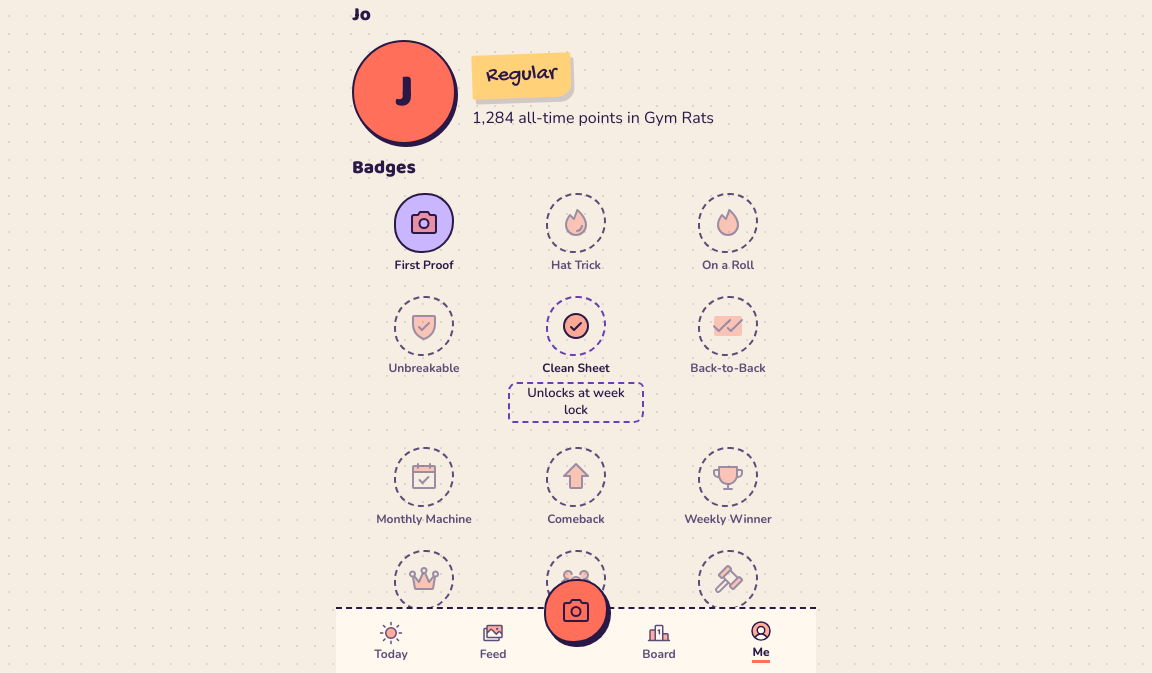
Test: Me profile (Story 4.6) › a seal opens its Sheet: earned with the line and date, pending with the lock time, locked with how to earn
Click the button with aria-label "First Proof, earned 12 Nov". click: (424, 233)
box: [352,187,496,278]
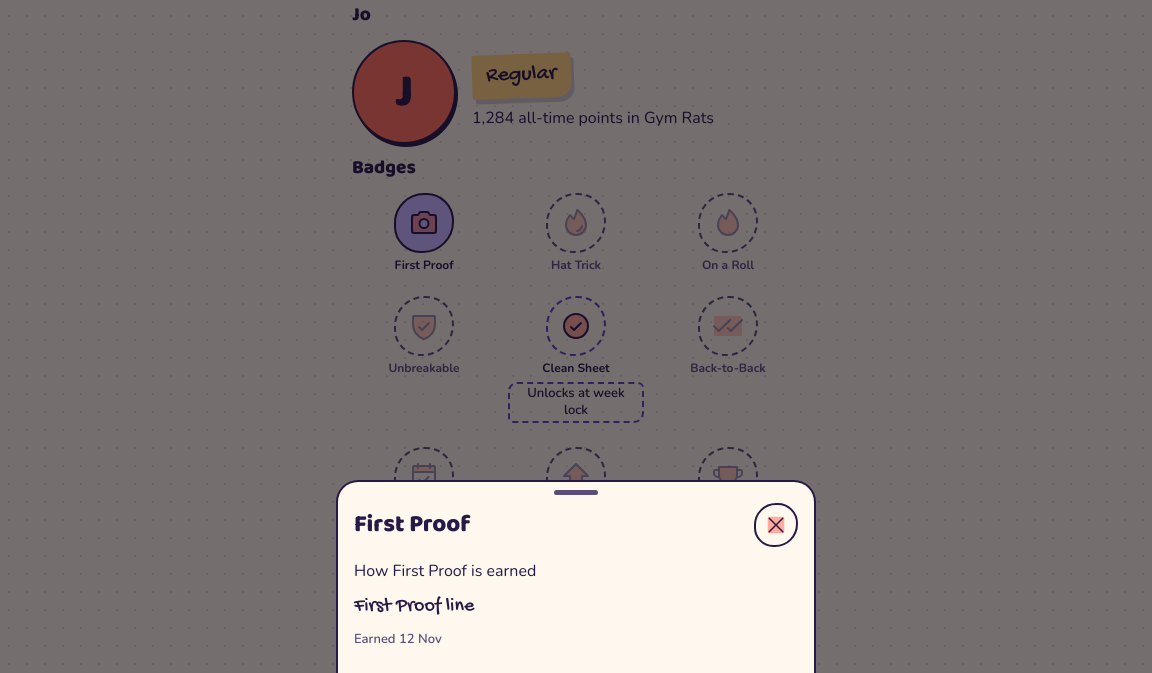
Check: the text "How First Proof is earned" is shown, box [354,560,536,582]
Check: the text "Earned 12 Nov" is shown, box [354,630,442,648]
Press Escape
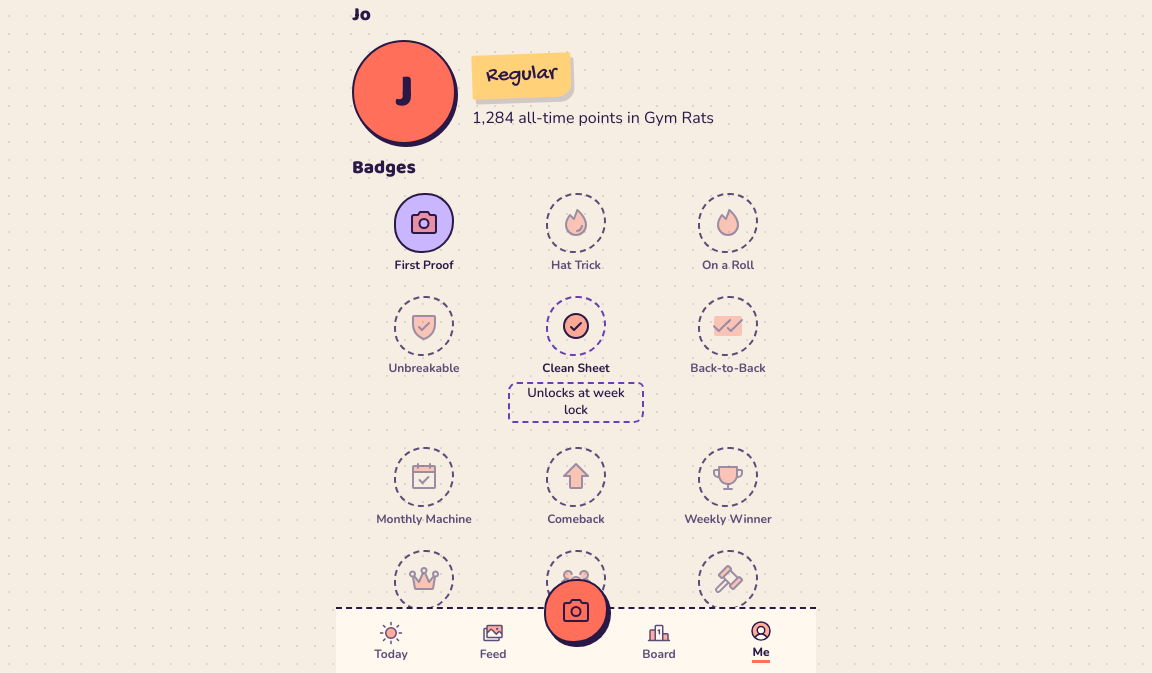
Check: the dialog is gone
Click the button with aria-label "Clean Sheet, pending". click: (576, 360)
box: [504,290,648,429]
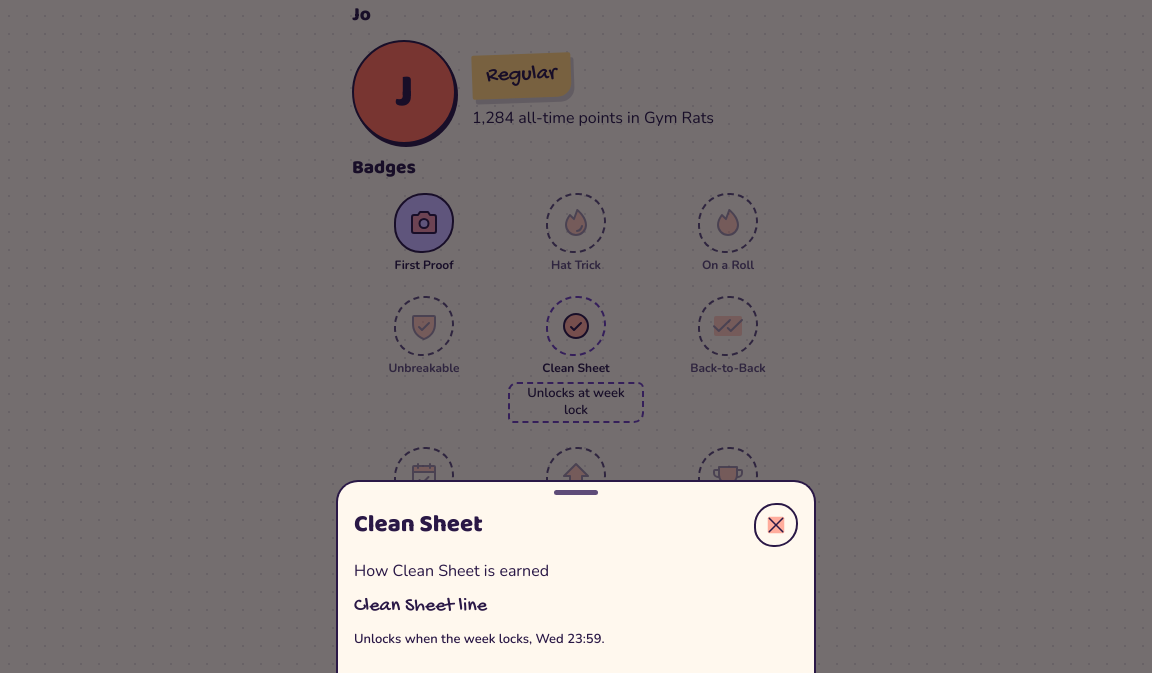
Check: the text "Unlocks when the week locks, Wed 23:59." is shown, box [354,630,604,648]
Press Escape
(page scrolled)
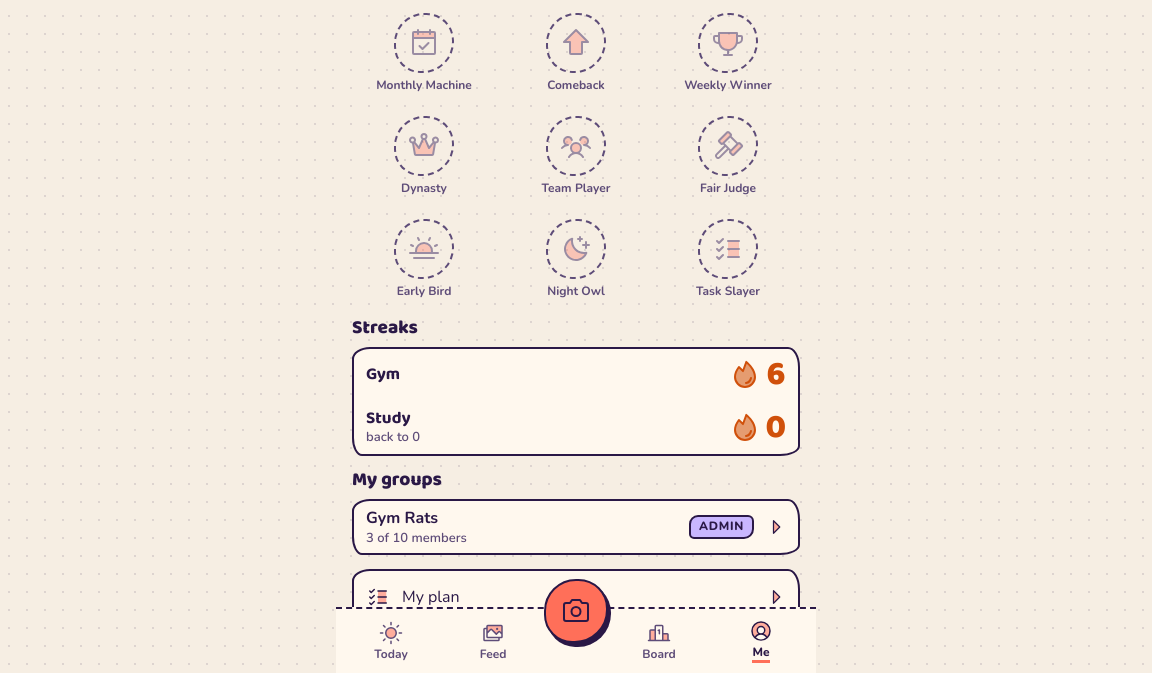
Check: the dialog is gone
Click the button with aria-label "Task Slayer, locked". click: (728, 259)
box: [656,213,800,304]
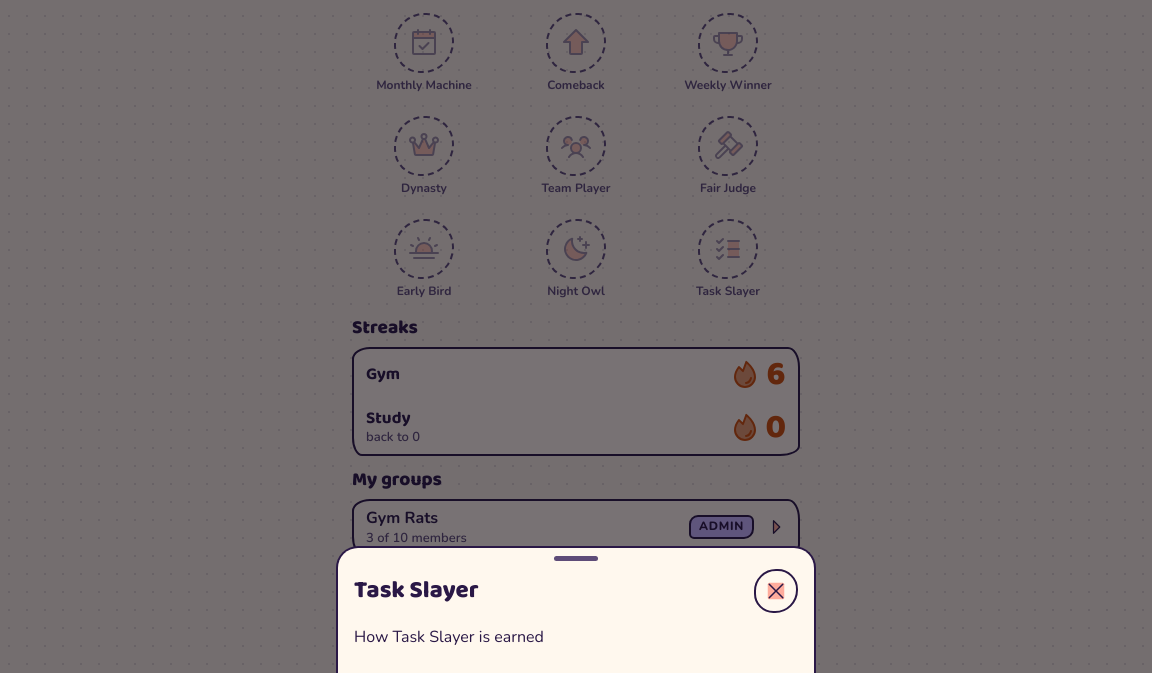
Check: the text "How Task Slayer is earned" is shown, box [354,626,544,648]
